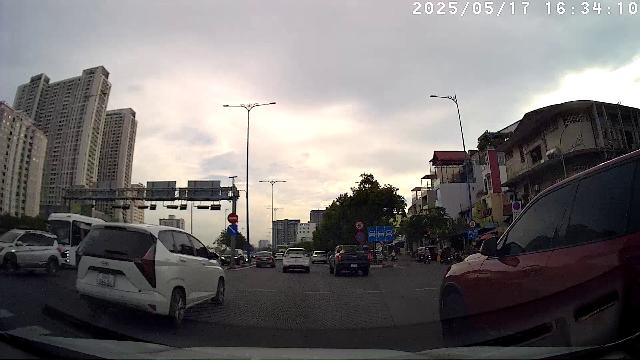102-cam-di-nguoc-chieu: (227, 213, 238, 224)
127-toc-do-toi-da-60: (354, 220, 365, 230)
302a-huong-phai-di-vong-chuong-ngai-vat-1: (227, 224, 238, 235)
